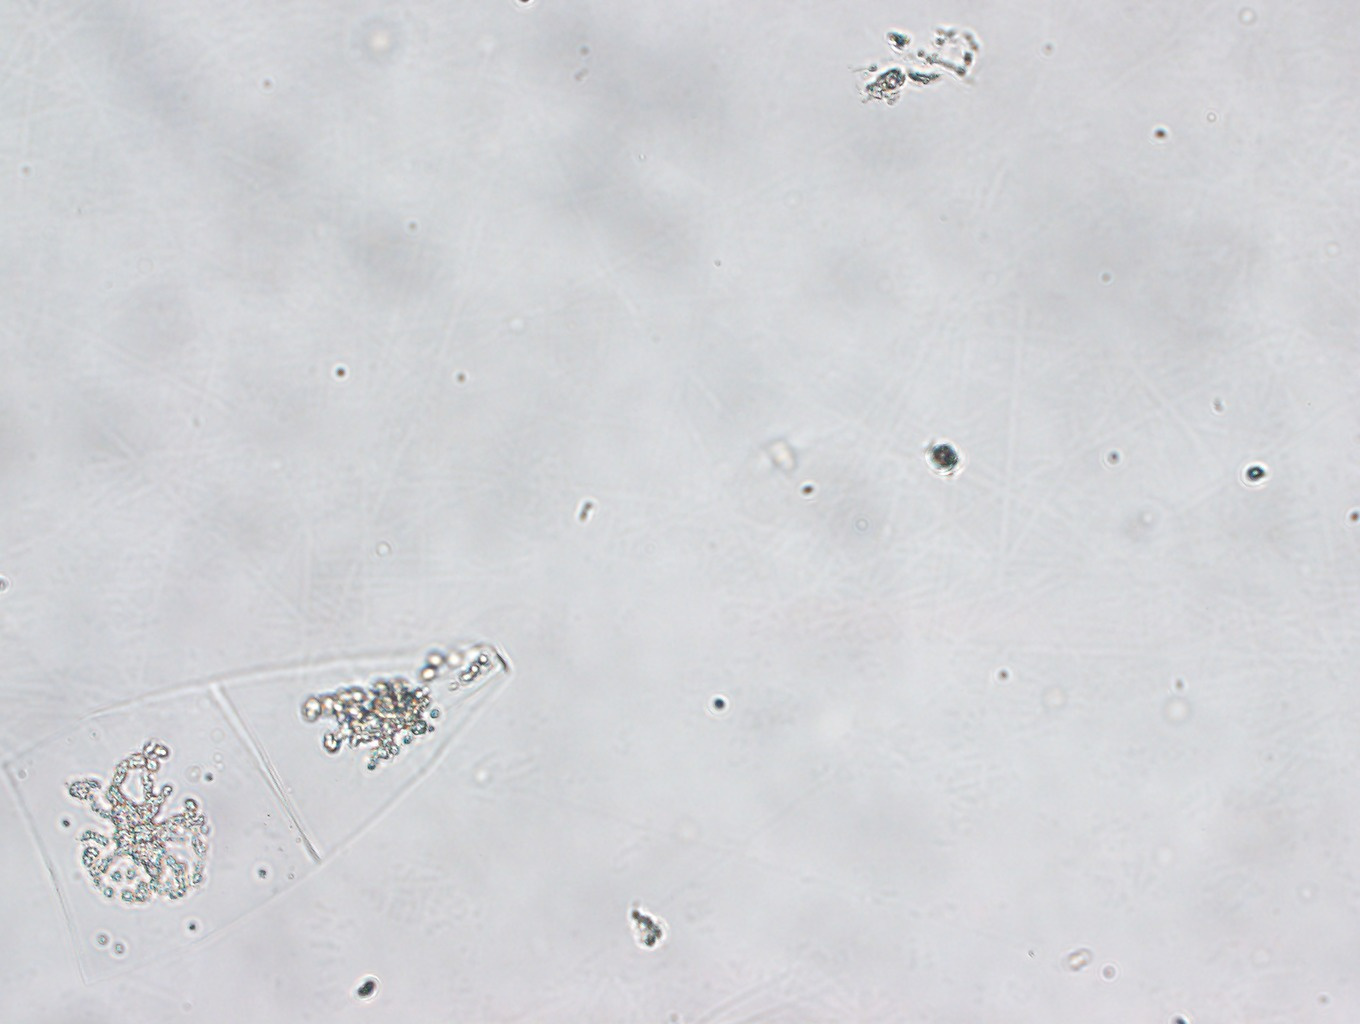helicotheca: (2, 641, 510, 989)
